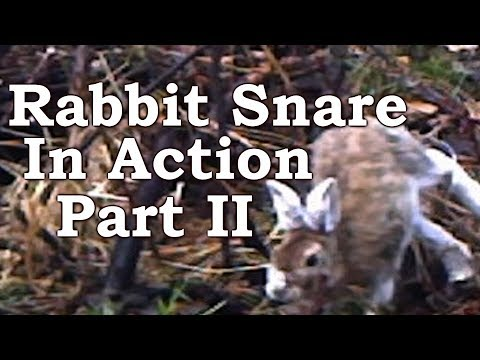rabbit: (294, 121, 416, 300)
